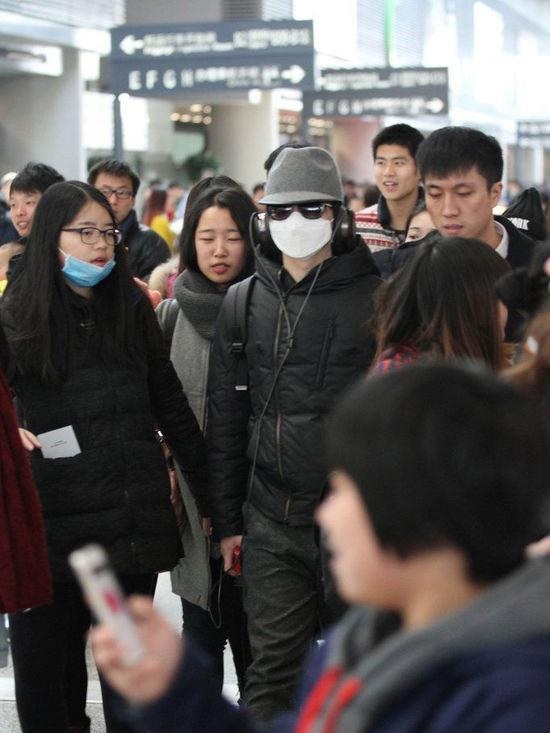NONE: (430, 182, 489, 238), (195, 224, 246, 280), (372, 151, 414, 200), (11, 190, 51, 237), (99, 179, 137, 219)
OK: (271, 201, 332, 259)
WRONG: (59, 217, 122, 280)
